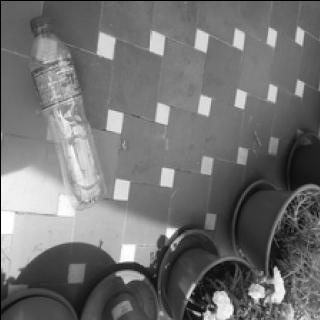plastic_bottles: (22, 9, 110, 212)
